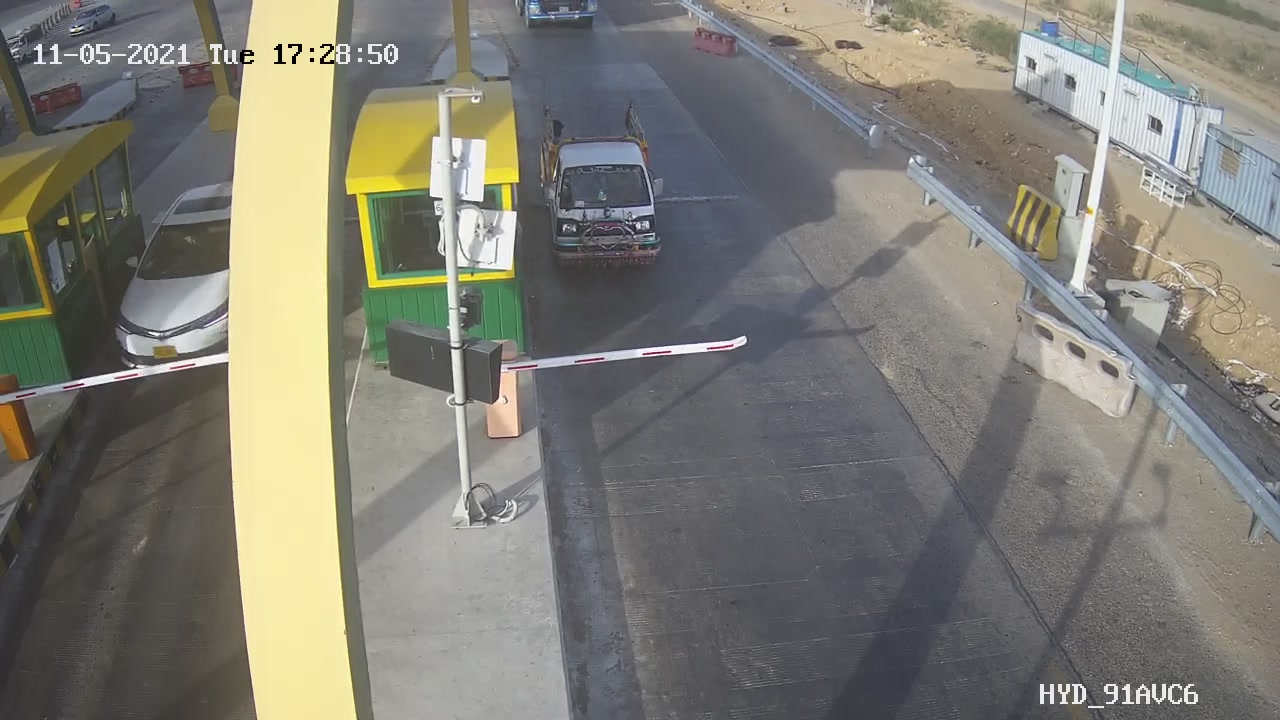F1: (521, 108, 683, 287)
